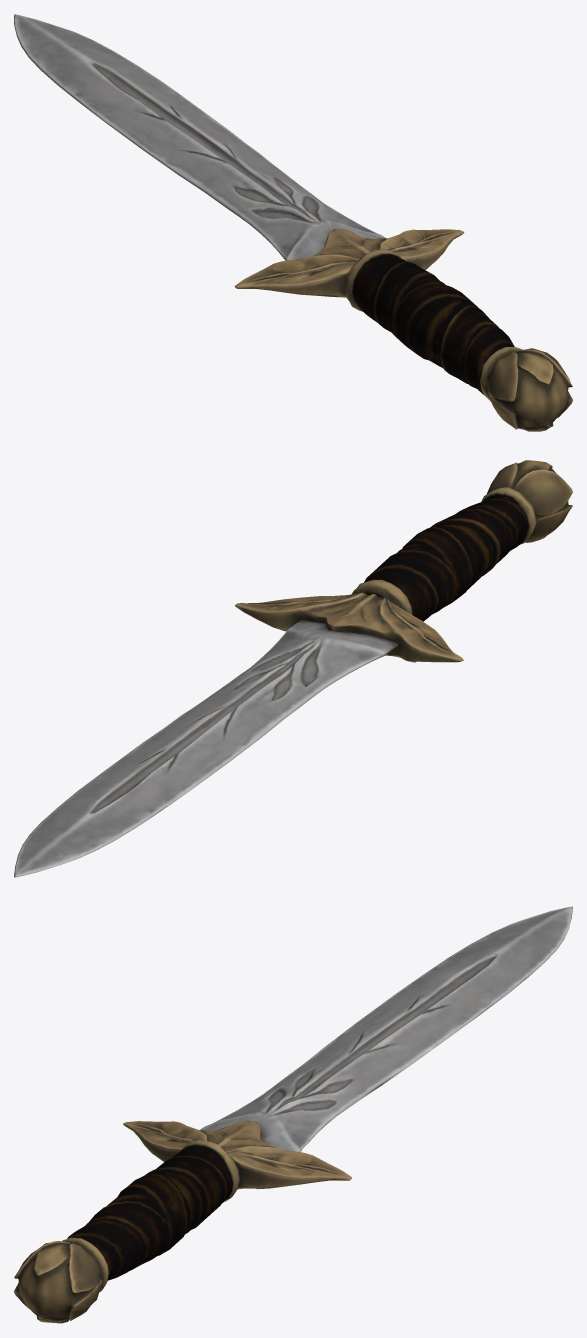
The model's file is Weapon_Sword_Copper.fbx.
The picture shows the model from 3 angles, top to bottom: view 1: azimuth 30°, elevation 25°; view 2: azimuth 150°, elevation 25°; view 3: azimuth 330°, elevation 25°; orthographic projection.
Visible parts, largest first — view 1: Weapon_Sword_Copper.001; view 2: Weapon_Sword_Copper.001; view 3: Weapon_Sword_Copper.001.
Boxes of the visible parts, <box> form: Weapon_Sword_Copper.001: <box>14,14,572,431</box>; Weapon_Sword_Copper.001: <box>14,460,572,877</box>; Weapon_Sword_Copper.001: <box>14,906,572,1323</box>.
Bounding box in the file's own units: 0.1329 × 0.0397 × 0.54.
